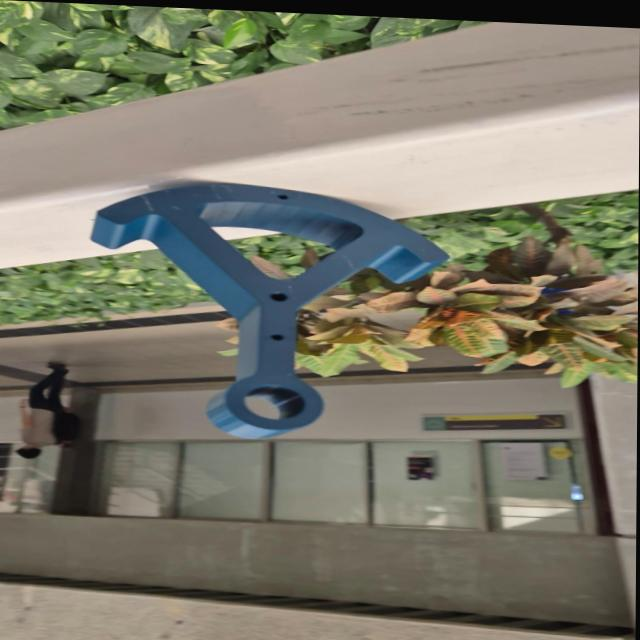haptic: (86, 175, 452, 450)
